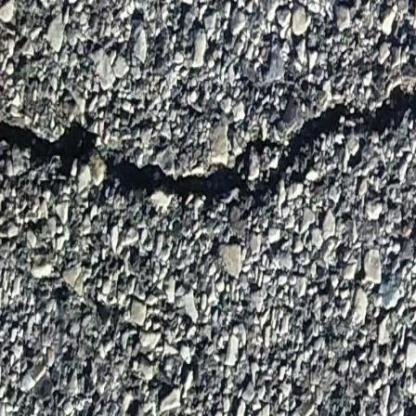Cracks: (0, 81, 416, 297)
